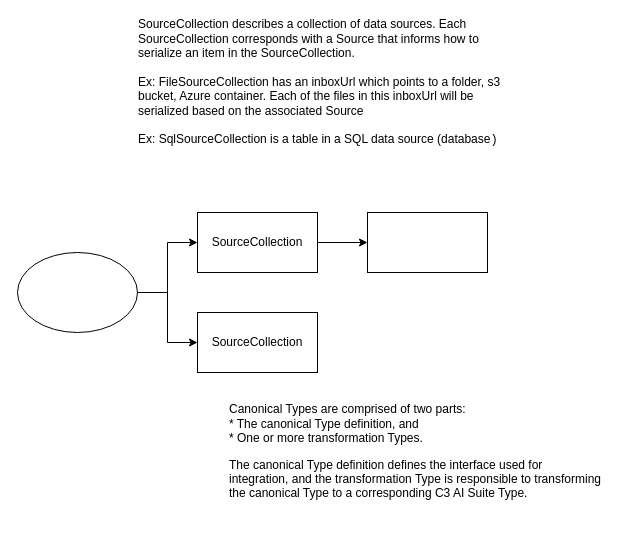
Image size: 640x540. Some labels were removed from this diagram. Each missing label, with the box of its shape:
A SourceSystem: (16, 252, 138, 332)
Source: (366, 212, 488, 272)
